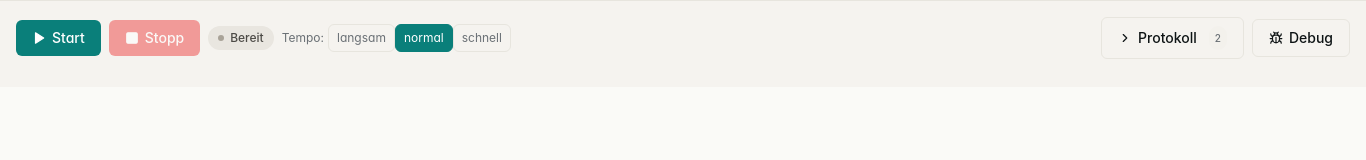
Test: RunControls icons › a breakpoint line in the Protokoll gets the pause icon; other lines none
Click the button "Protokoll 2" at (1172, 38), box [1101,17,1244,59]
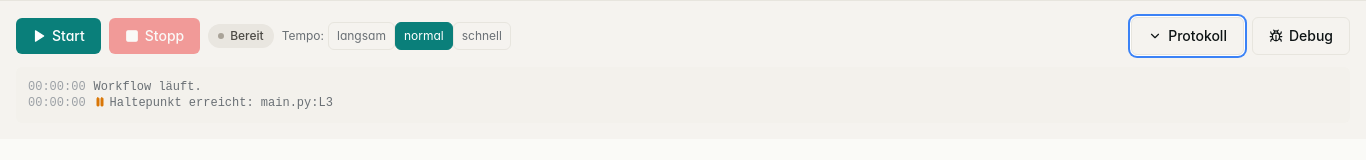
expect the text "00:00:00 Haltepunkt erreicht: main.py:L3" is shown: met, box [28,96,333,110]
